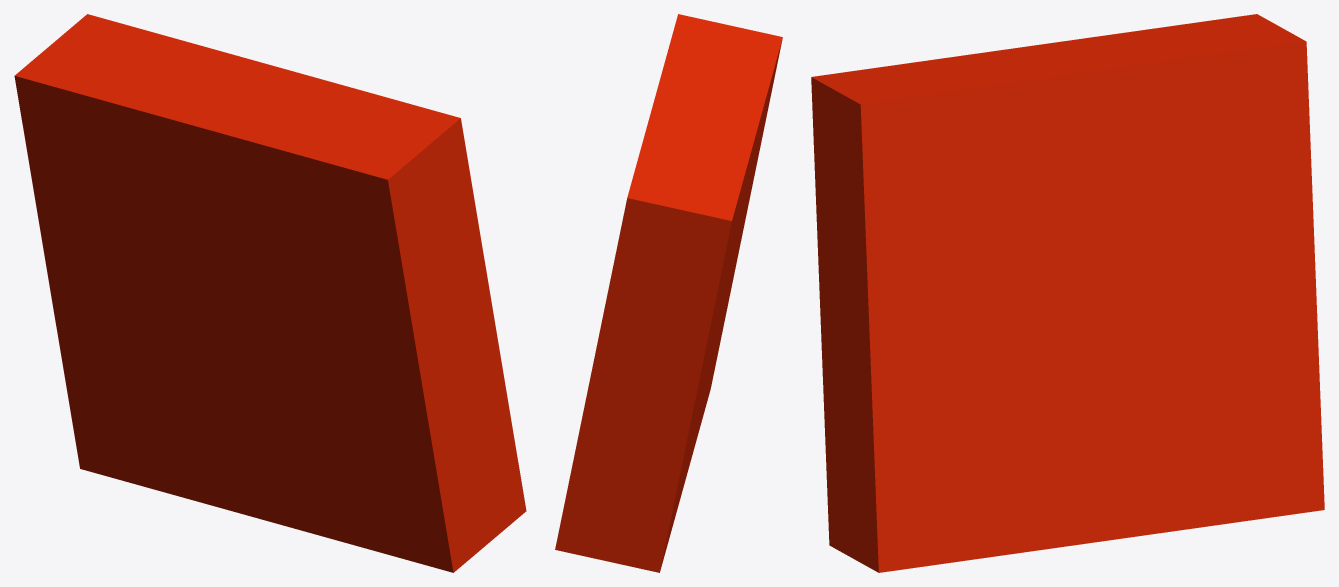
The picture shows the model from 3 angles, left to right: view 1: azimuth 30°, elevation 25°; view 2: azimuth 150°, elevation 25°; view 3: azimuth 270°, elevation 25°; orthographic projection. The views are drawn at different scales.
Parts seen in each view (by area): view 1: Plane; view 2: Plane; view 3: Plane.
Boxes of the visible parts, x1,y1,x2,y2 form: Plane: (14, 14, 526, 572); Plane: (555, 14, 782, 572); Plane: (811, 14, 1324, 572).
Size of what is drawn, in the model's own units: 1.62 by 2.14 by 2.12.
